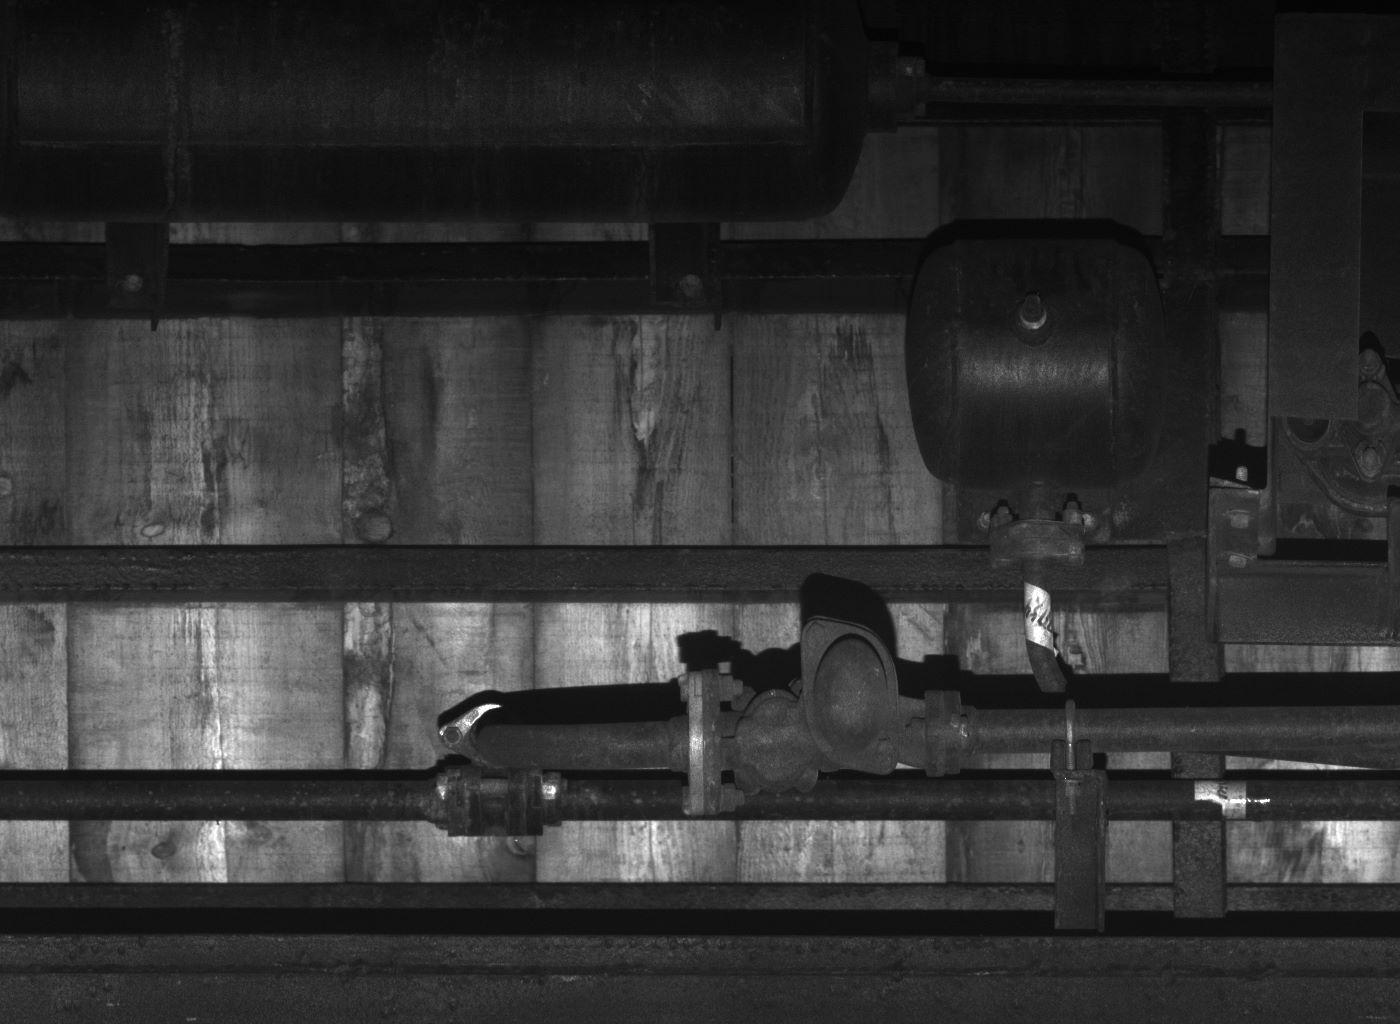normal: (730, 677, 821, 792)
